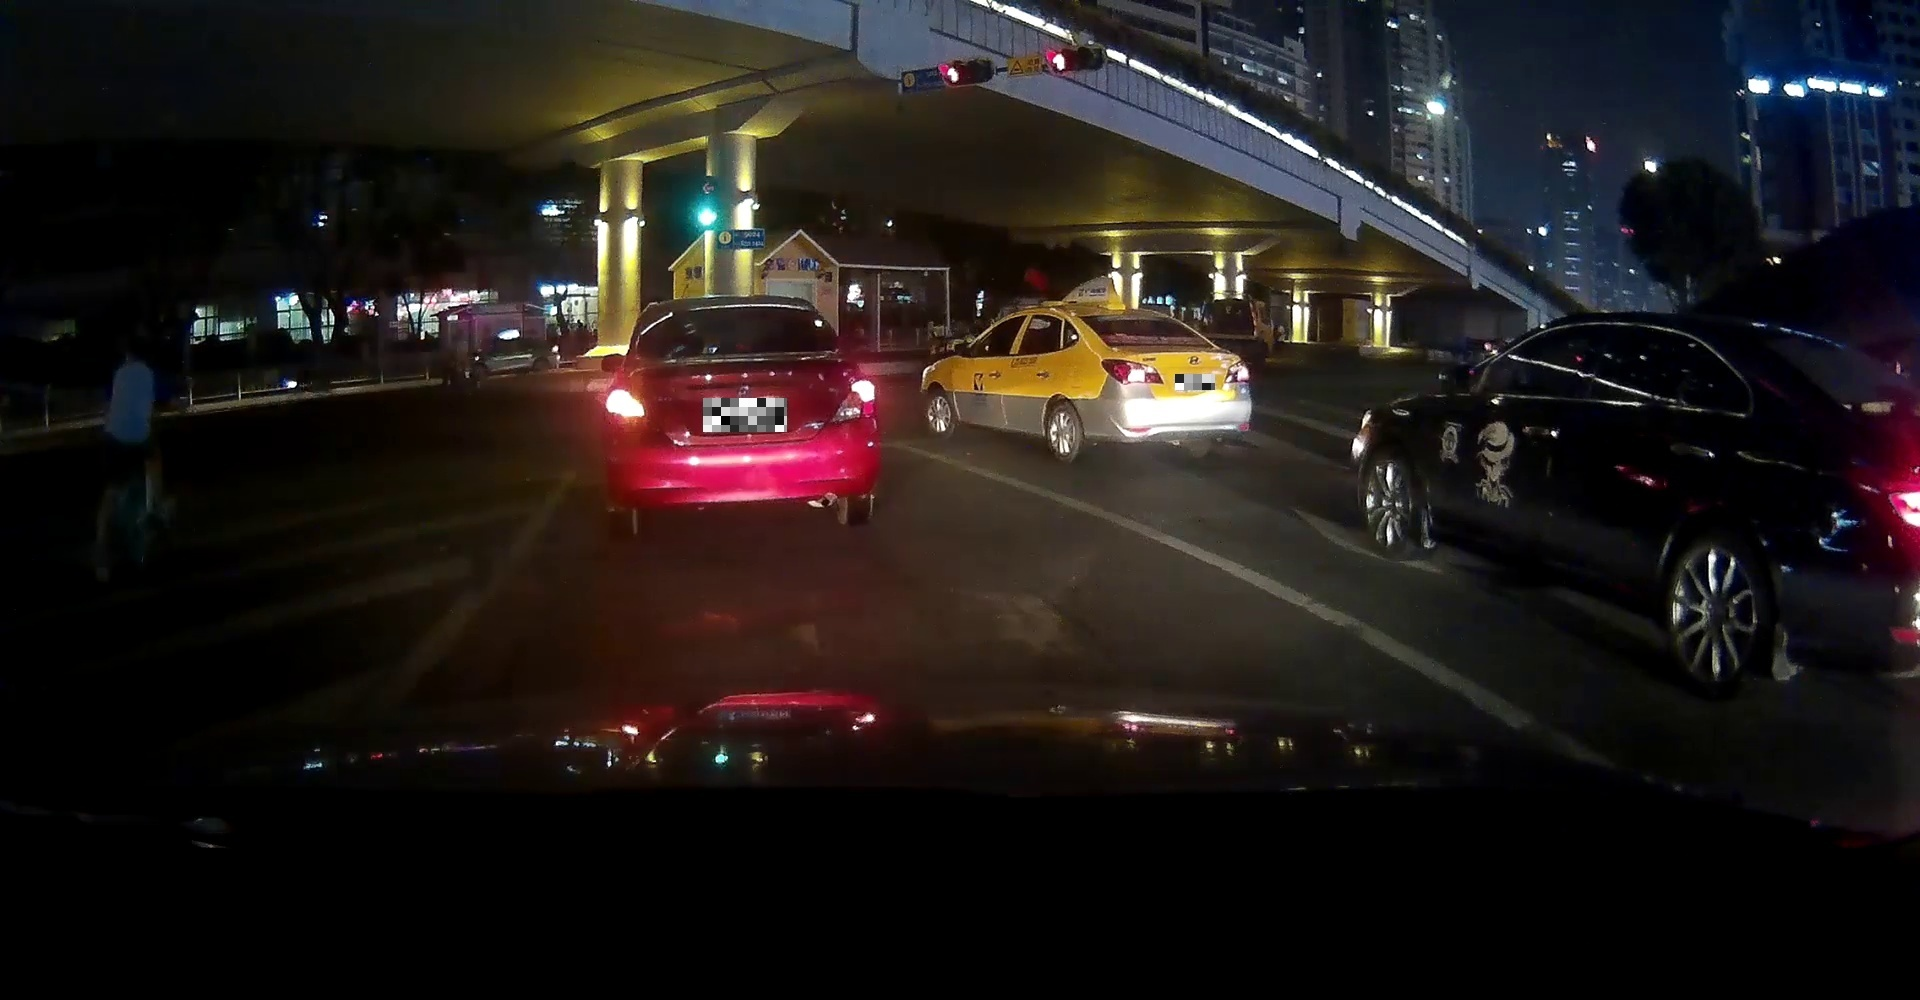L_light: (606, 377, 651, 426), (1100, 357, 1164, 387)
R_light: (828, 376, 876, 423), (1222, 357, 1251, 385)
T_light: (720, 303, 758, 311), (1114, 312, 1142, 316)
night-no: (604, 294, 880, 538), (1068, 308, 1253, 458)
plate_1: (703, 398, 787, 431)
plate_2: (1175, 374, 1215, 390)
